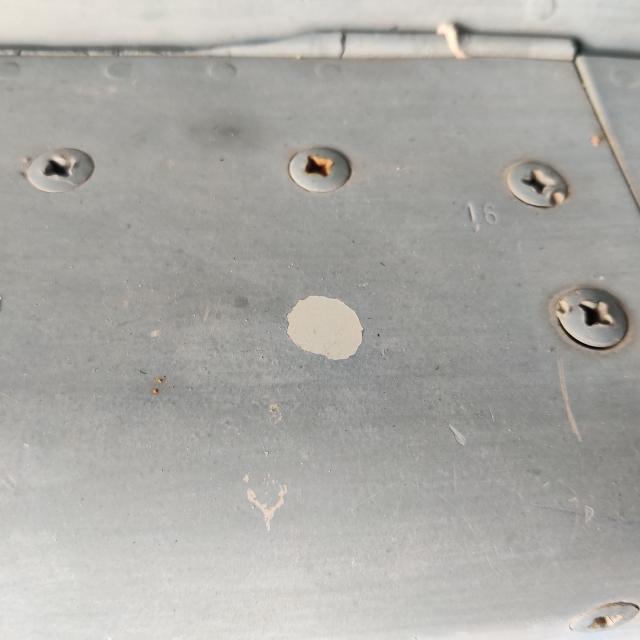paint-off: (264, 277, 392, 380)
